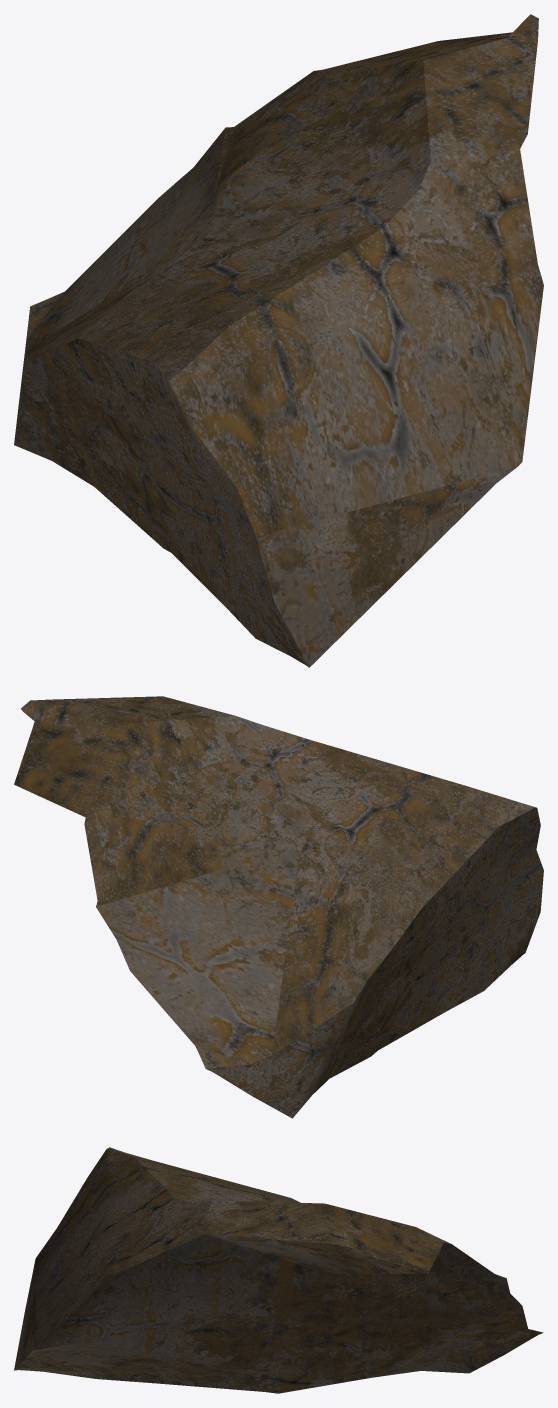
The model's file is RockShard14.fbx.
The picture shows the model from 3 angles, top to bottom: view 1: azimuth 30°, elevation 25°; view 2: azimuth 150°, elevation 25°; view 3: azimuth 270°, elevation 25°; orthographic projection. The views are drawn at different scales.
Visible parts, largest first — view 1: RockShard14; view 2: RockShard14; view 3: RockShard14.
Part boxes in pixels (x1=…): RockShard14: x1=14, y1=14, x2=543, y2=667; RockShard14: x1=14, y1=696, x2=543, y2=1118; RockShard14: x1=14, y1=1147, x2=543, y2=1393.
Bounding box in the file's own units: 49.05 × 35.89 × 57.19.
